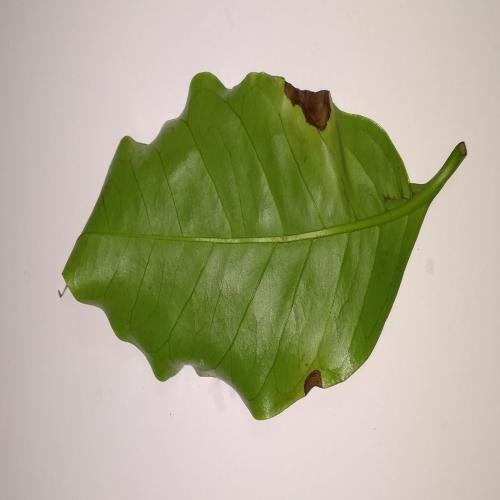miner: (283, 78, 334, 130)
